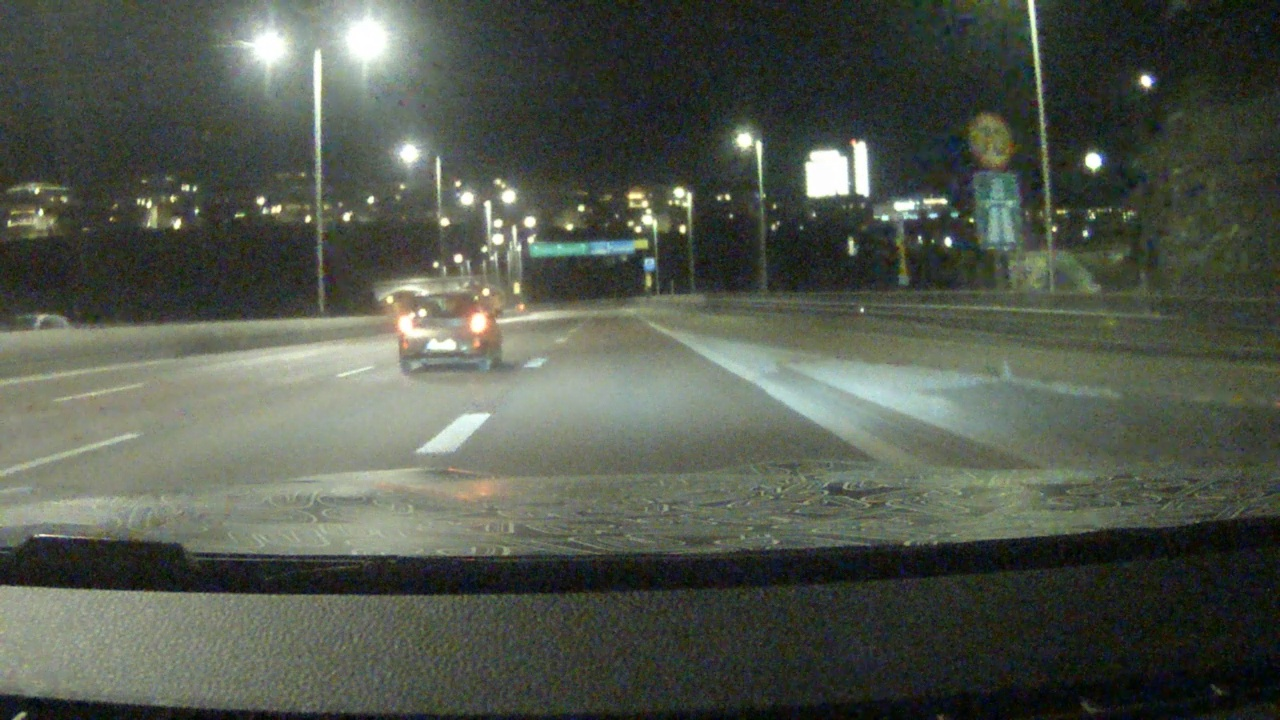Motorway_Begin: (972, 172, 1024, 250)
